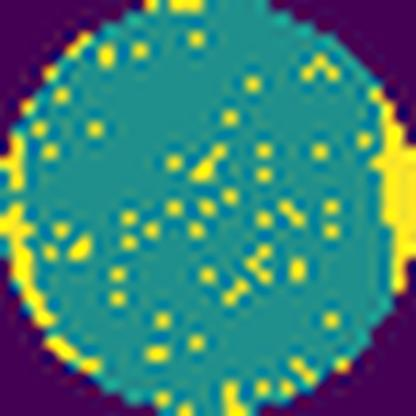Edge-Loc: (370, 76, 416, 301), (0, 201, 60, 330)
